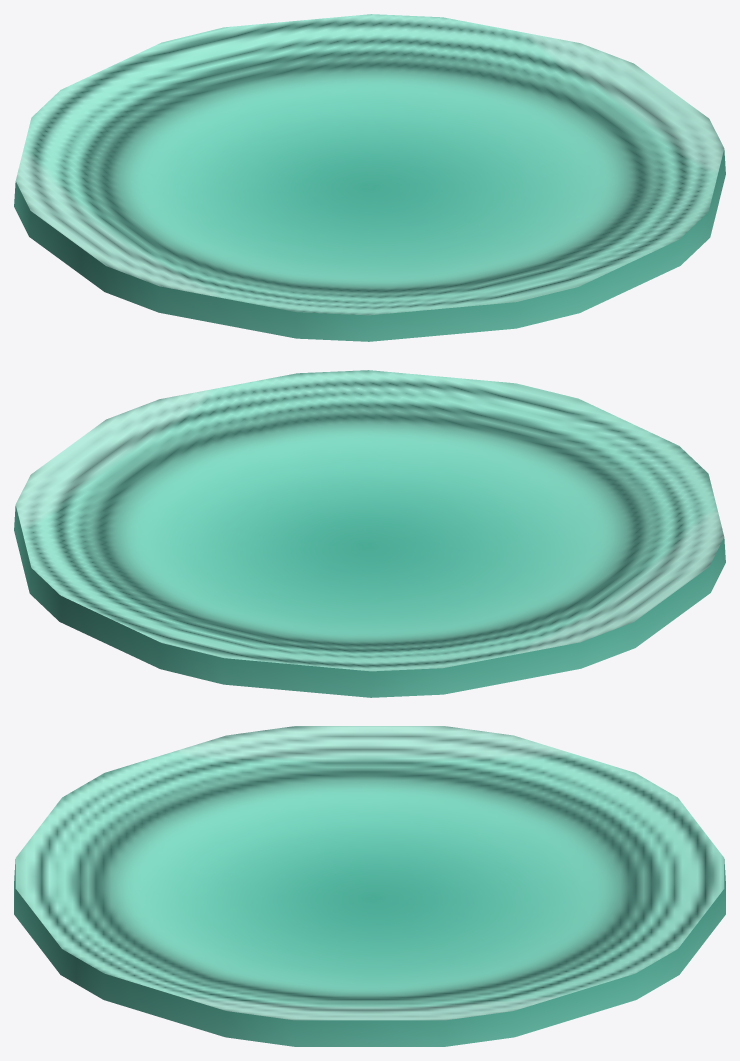
Rendered from Plate_A.FBX.
The picture shows the model from 3 angles, top to bottom: view 1: azimuth 30°, elevation 25°; view 2: azimuth 150°, elevation 25°; view 3: azimuth 270°, elevation 25°; orthographic projection.
Visible parts, largest first — view 1: Plate; view 2: Plate; view 3: Plate.
Part boxes in pixels (left/top/right/bottom): Plate: left=14, top=14, right=725, bottom=341; Plate: left=14, top=370, right=725, bottom=697; Plate: left=14, top=726, right=725, bottom=1046.
Size of the model in its own units: 105 by 4.28 by 107.
